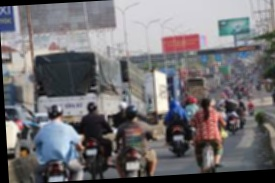Bien-so: (116, 167, 130, 177), (38, 176, 54, 182), (79, 151, 88, 159), (164, 141, 174, 148)
